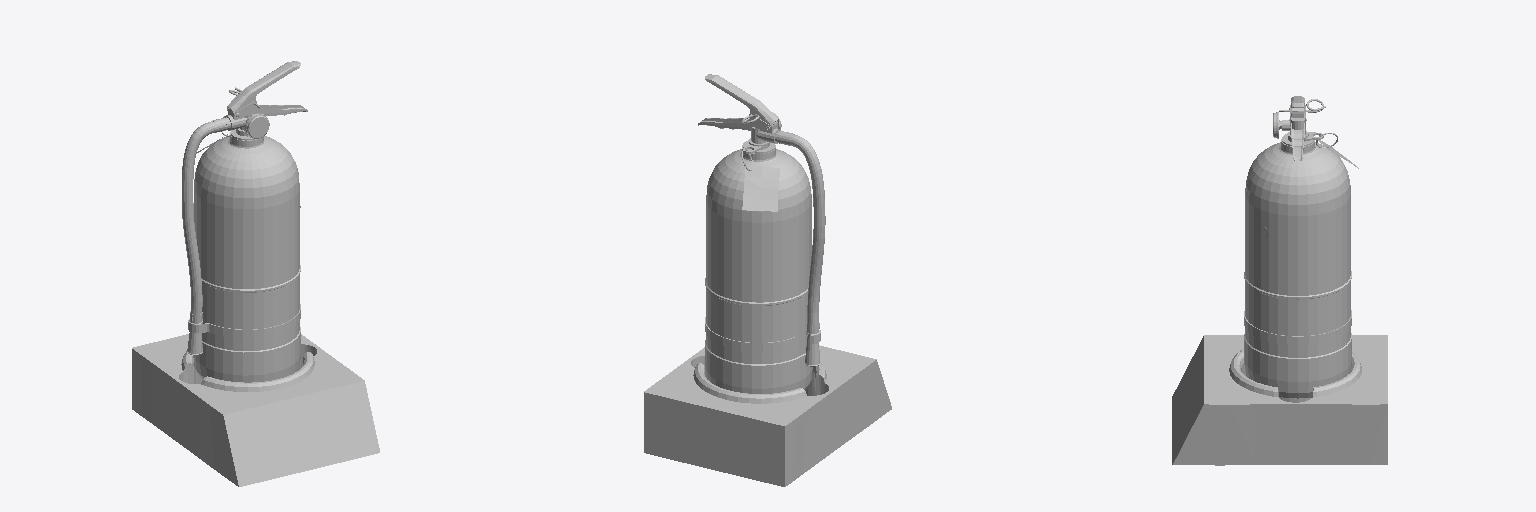
File: fire.obj
3 views of the same model, side by side, from view 1: azimuth 30°, elevation 25°; view 2: azimuth 150°, elevation 25°; view 3: azimuth 270°, elevation 25° (orthographic).
Parts seen in each view (by area): view 1: korean_fire_extinguisher_01; view 2: korean_fire_extinguisher_01; view 3: korean_fire_extinguisher_01.
Part boxes in pixels (x1,y1,x2,y2): korean_fire_extinguisher_01: (132, 61, 379, 486); korean_fire_extinguisher_01: (644, 74, 891, 486); korean_fire_extinguisher_01: (1172, 96, 1387, 465).
Bounding box in the file's own units: 0.28 × 0.6593 × 0.3674.